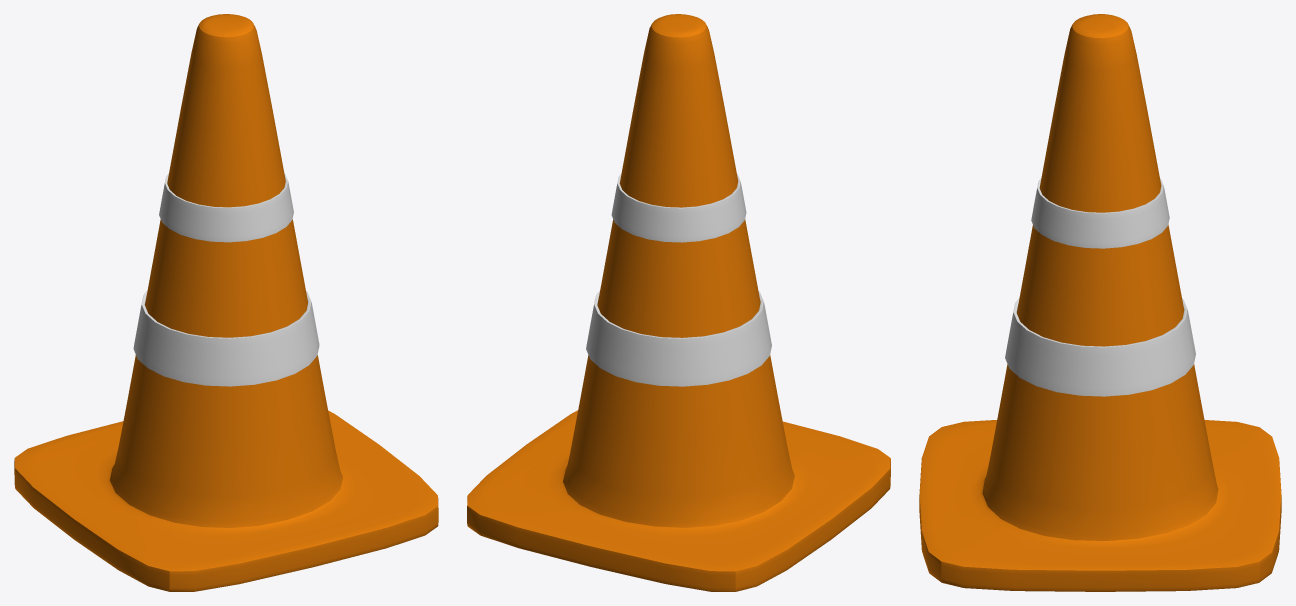
Rendered from cono.fbx.
3 renders of one model, left to right at view 1: azimuth 30°, elevation 25°; view 2: azimuth 150°, elevation 25°; view 3: azimuth 270°, elevation 25°, orthographic. The views are drawn at different scales.
Parts seen in each view (by area): view 1: Plane, Plane.001; view 2: Plane, Plane.001; view 3: Plane, Plane.001.
Part boxes in pixels (bbox=[...]): Plane: bbox=[14, 14, 438, 591]; Plane.001: bbox=[133, 173, 319, 386]; Plane: bbox=[467, 14, 890, 591]; Plane.001: bbox=[586, 174, 771, 386]; Plane: bbox=[919, 14, 1281, 591]; Plane.001: bbox=[1005, 178, 1195, 396].
Bounding box in the file's own units: 199 × 299 × 199.
